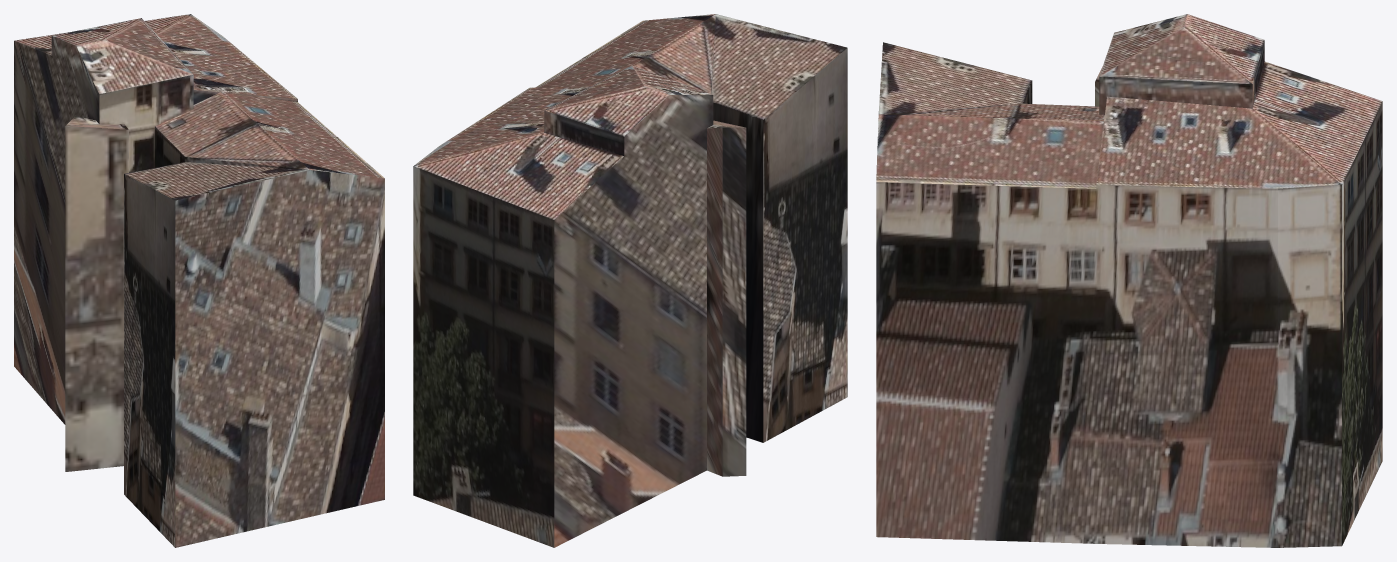
3 renders of one model, left to right at view 1: azimuth 30°, elevation 25°; view 2: azimuth 150°, elevation 25°; view 3: azimuth 270°, elevation 25°, orthographic. The views are drawn at different scales.
Visible parts, largest first — view 1: Z_UP; view 2: Z_UP; view 3: Z_UP.
Boxes of the visible parts, box(x1,y1,x2,y2) form: Z_UP: box(14, 14, 384, 547); Z_UP: box(413, 14, 847, 547); Z_UP: box(876, 14, 1382, 547).
Bounding box in the file's own units: 14.84 × 24.04 × 25.48.
2 materials, 1 textured.
